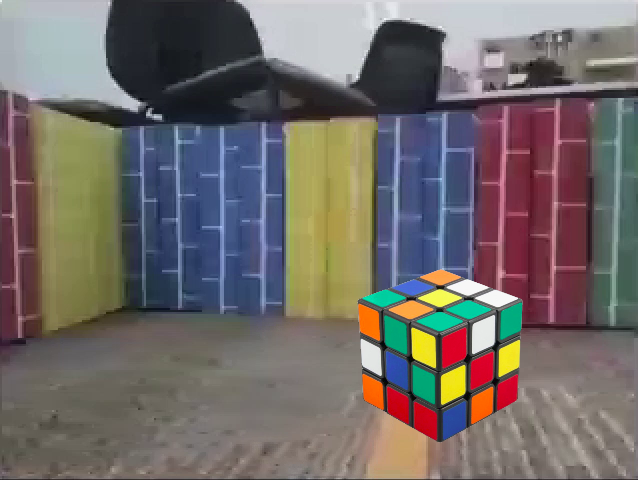cube: (357, 269, 523, 443)
